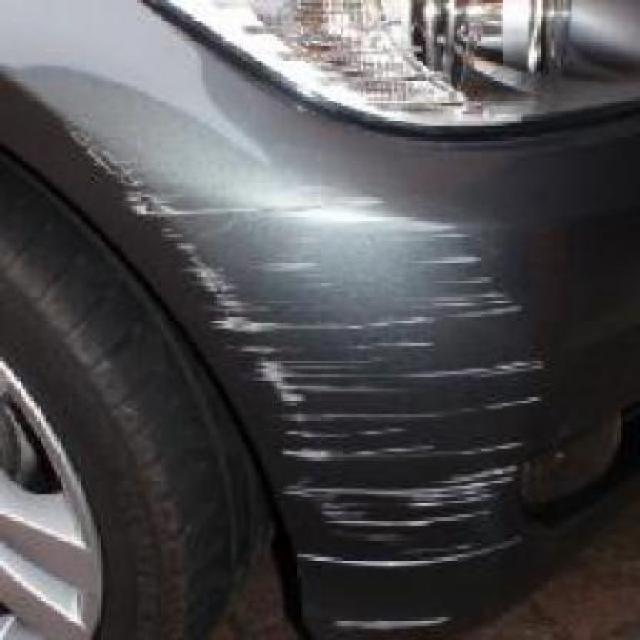dent-or-scratch: (132, 146, 554, 546)
